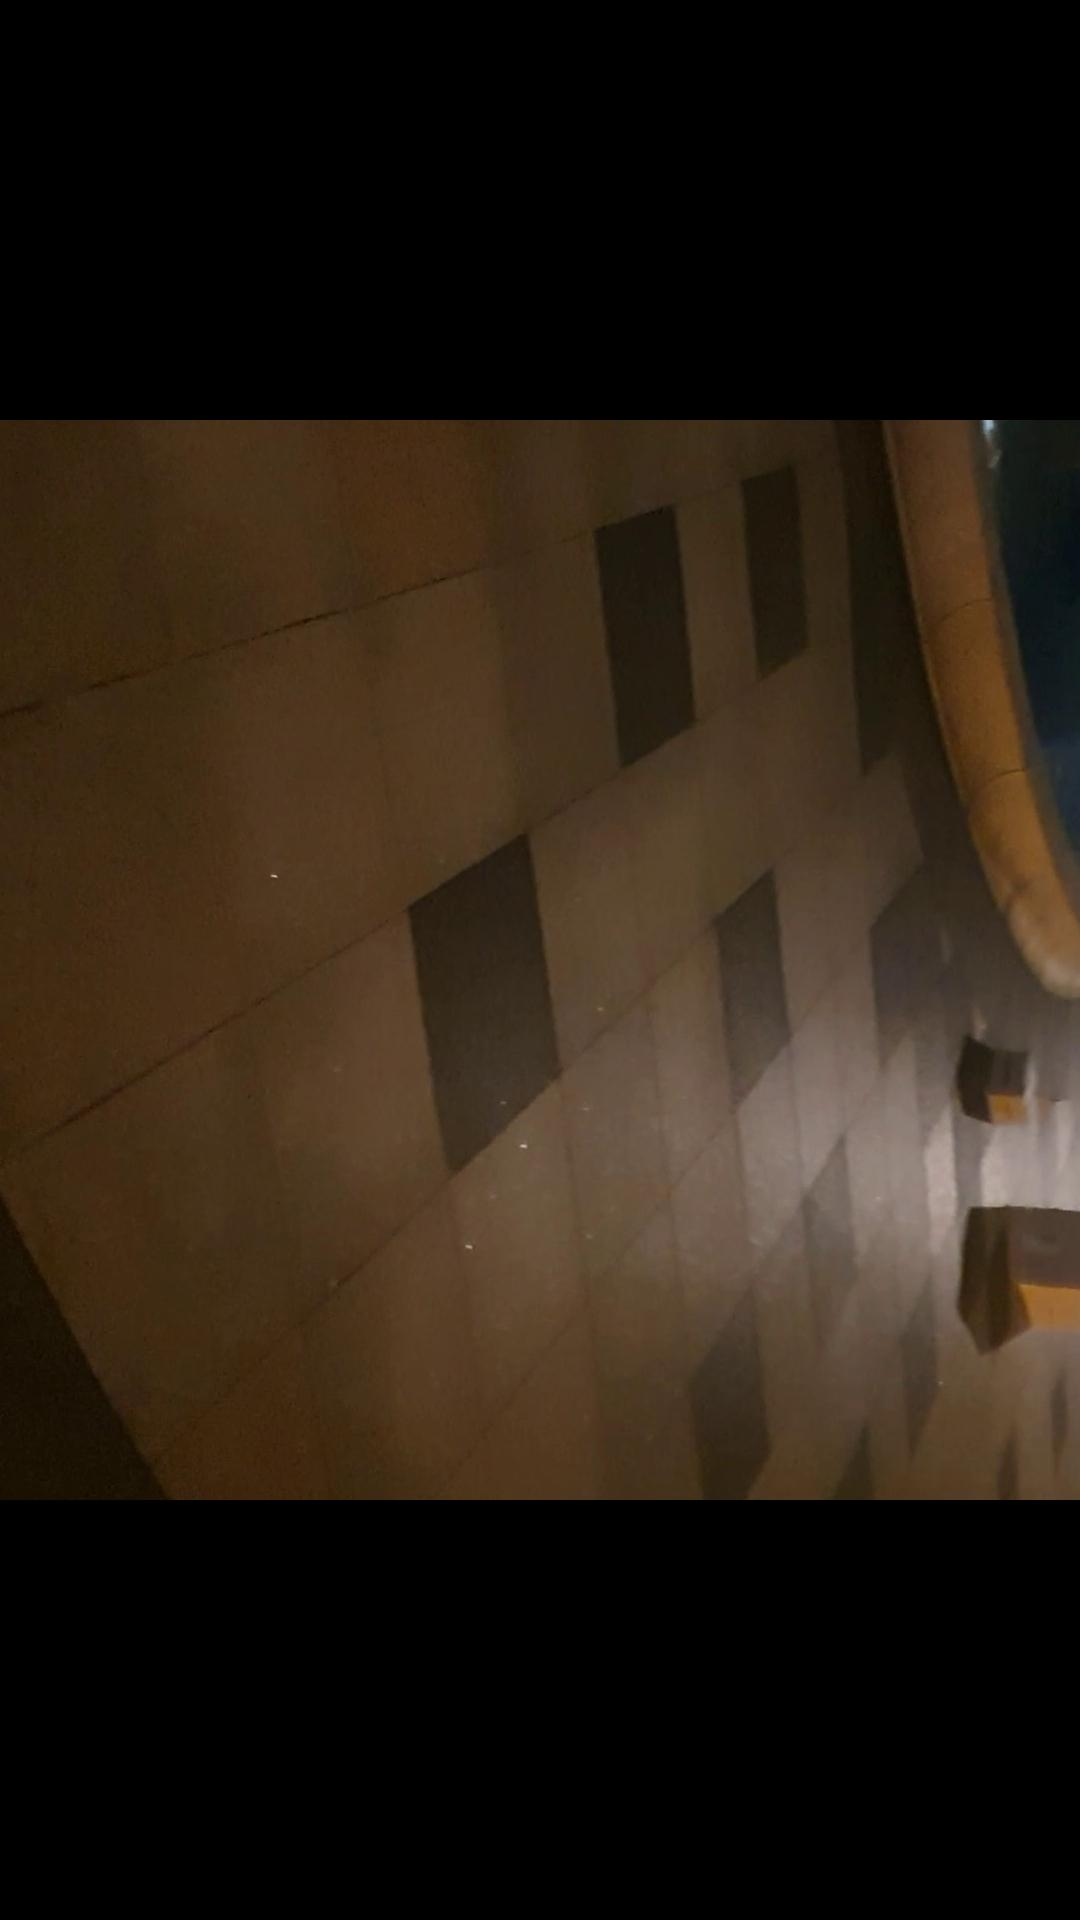Box: (1007, 1221, 1080, 1340), (985, 1048, 1042, 1120)
